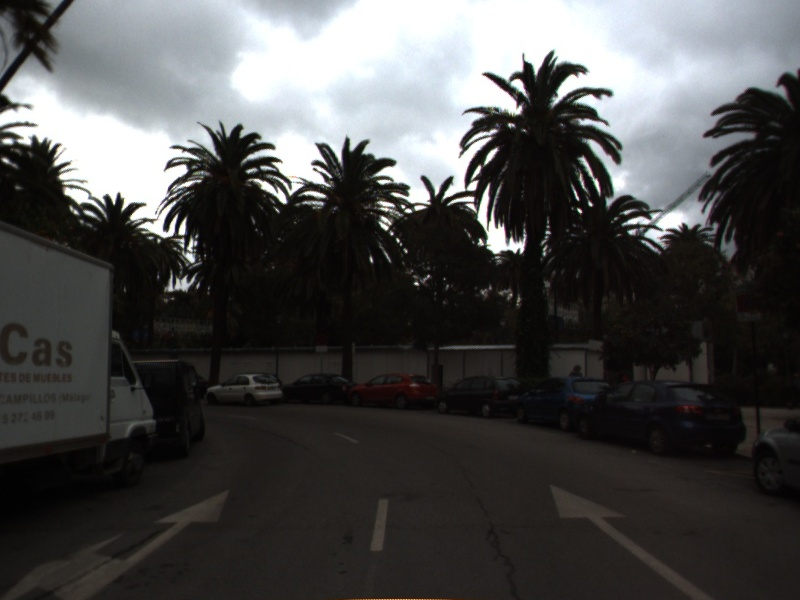STRAIGHT: (547, 482, 715, 600)
STRAIGHT_LEFT: (1, 487, 232, 600)
